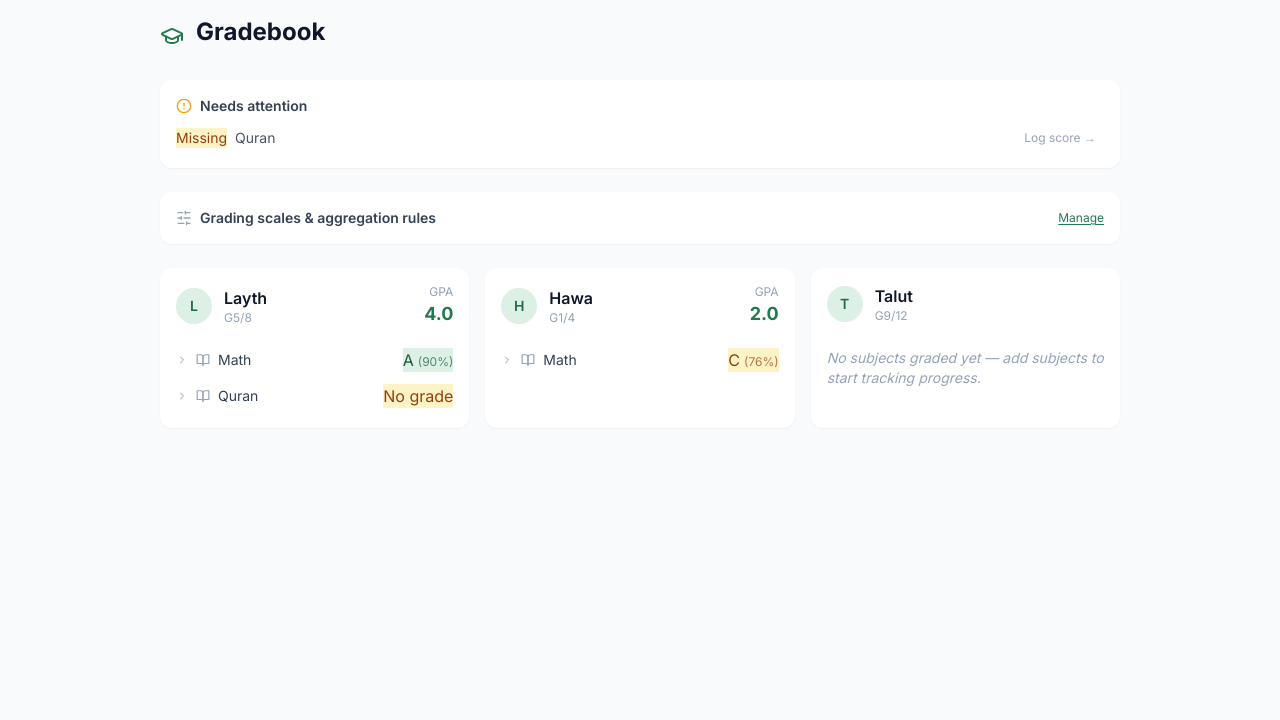
it: GradebookPage › edits an existing score
Expected: the text "Layth" is shown, [224,286,267,310]
Click the button "Math A(90%)" at (235, 360), box [176,344,453,376]
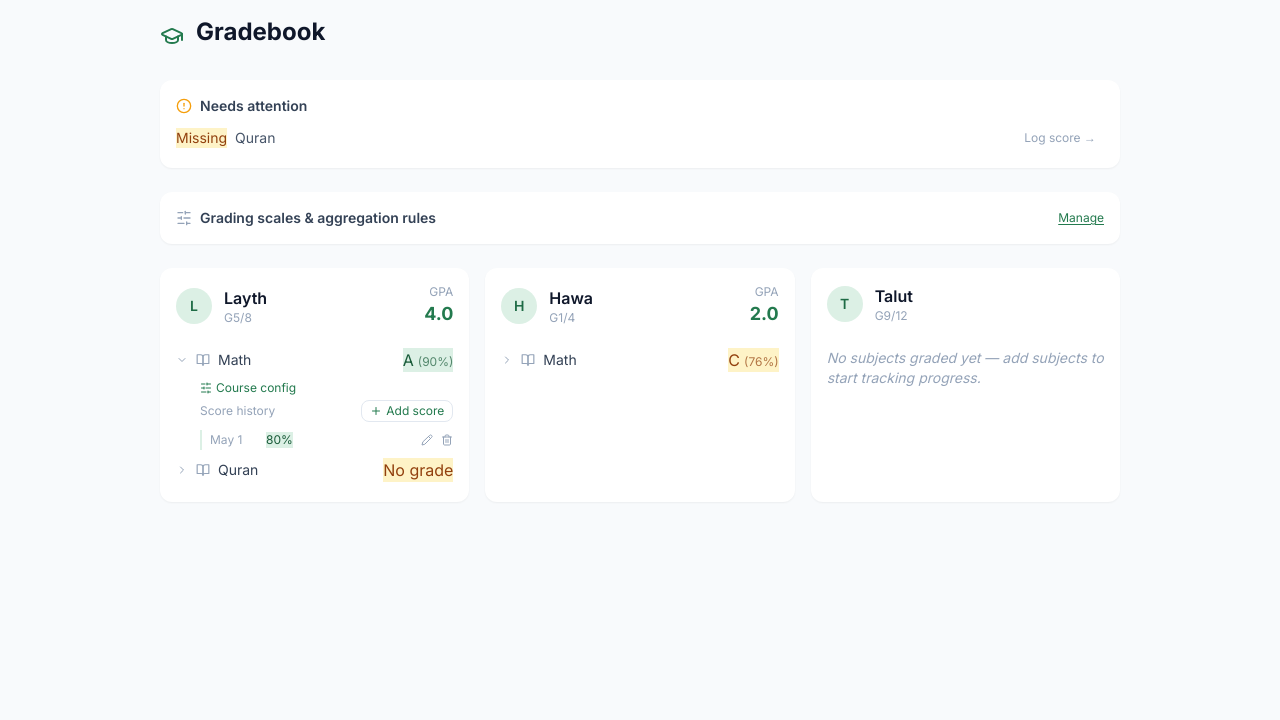
Result: the text "80%" is shown at [266,432,293,448]
Click the button named "Edit score" at (427, 440), box [421,434,433,446]
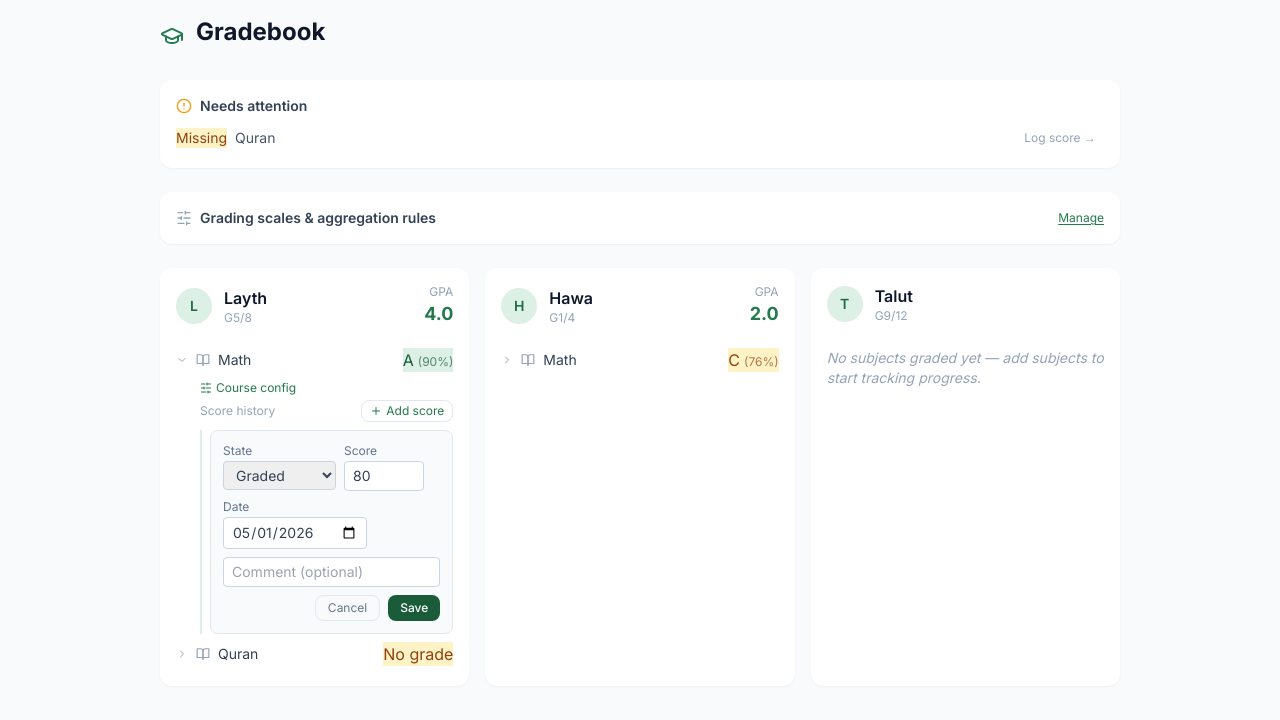
Replace the text in the number field named "Numeric score" with "95" at (384, 476), box [344,461,424,491]
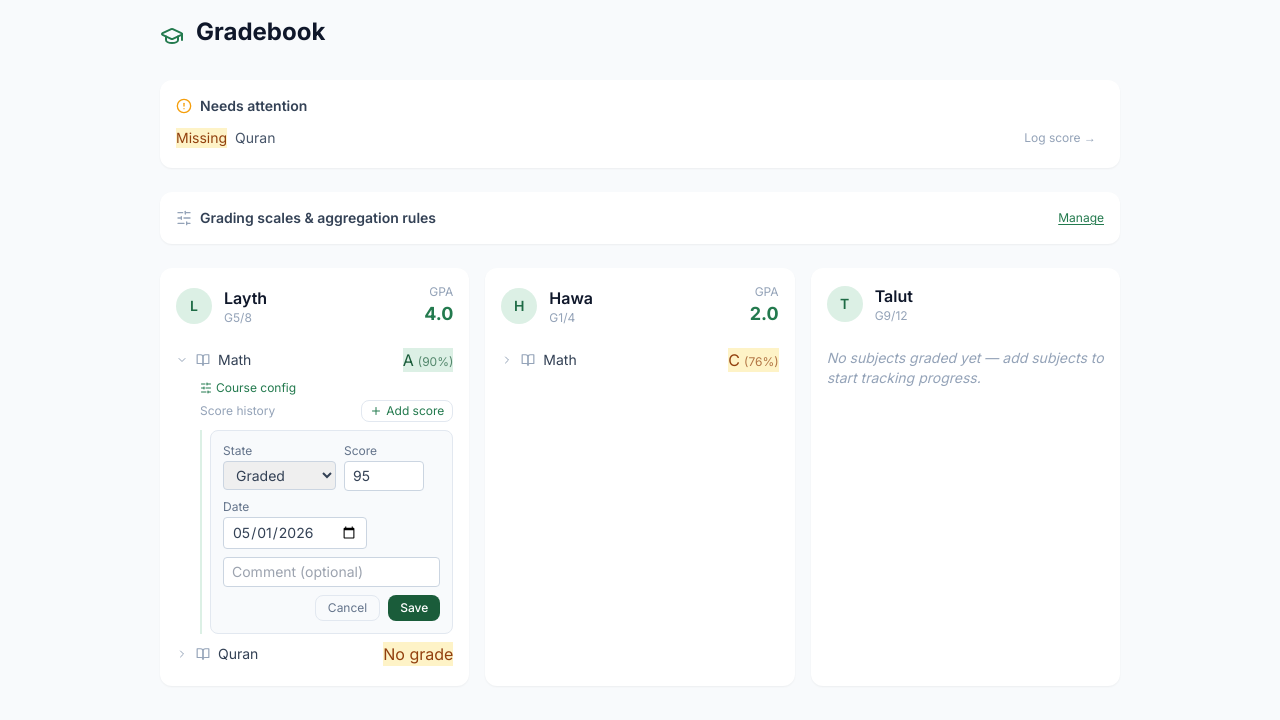
Click the button "Save" at (414, 608), box [388,595,440,621]
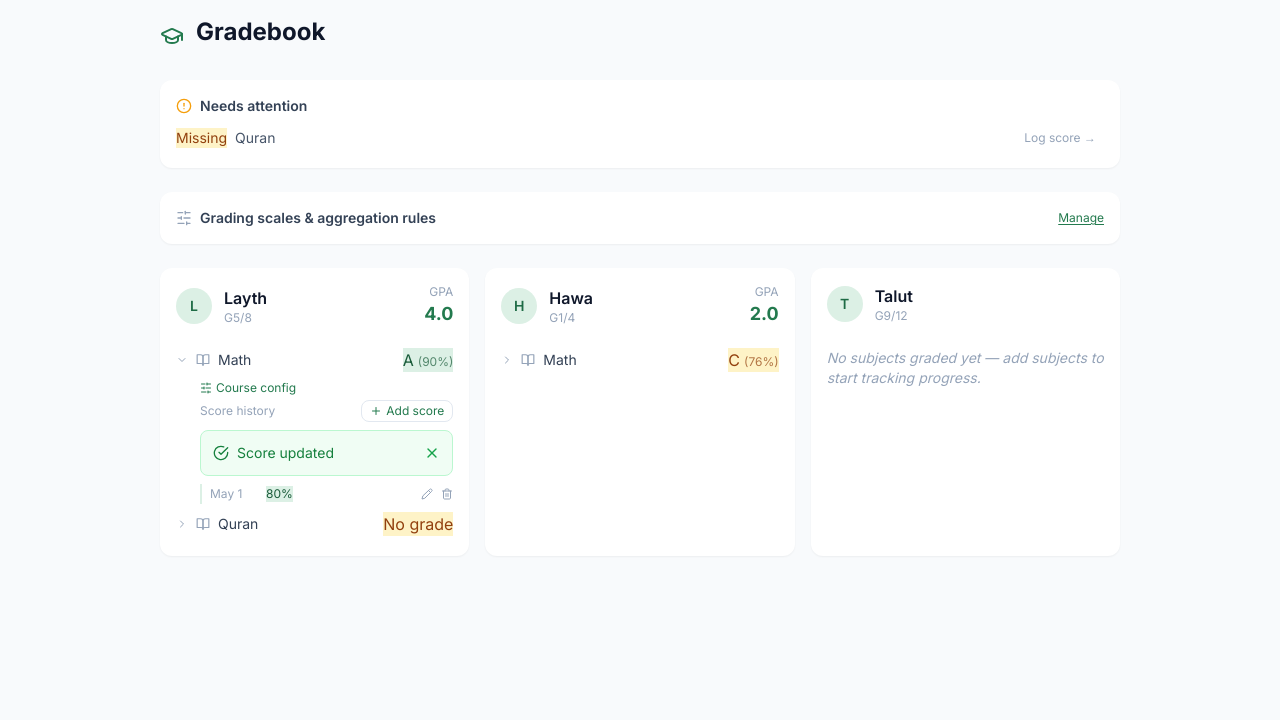
Result: the text "Score updated" is shown at [237,443,334,463]
